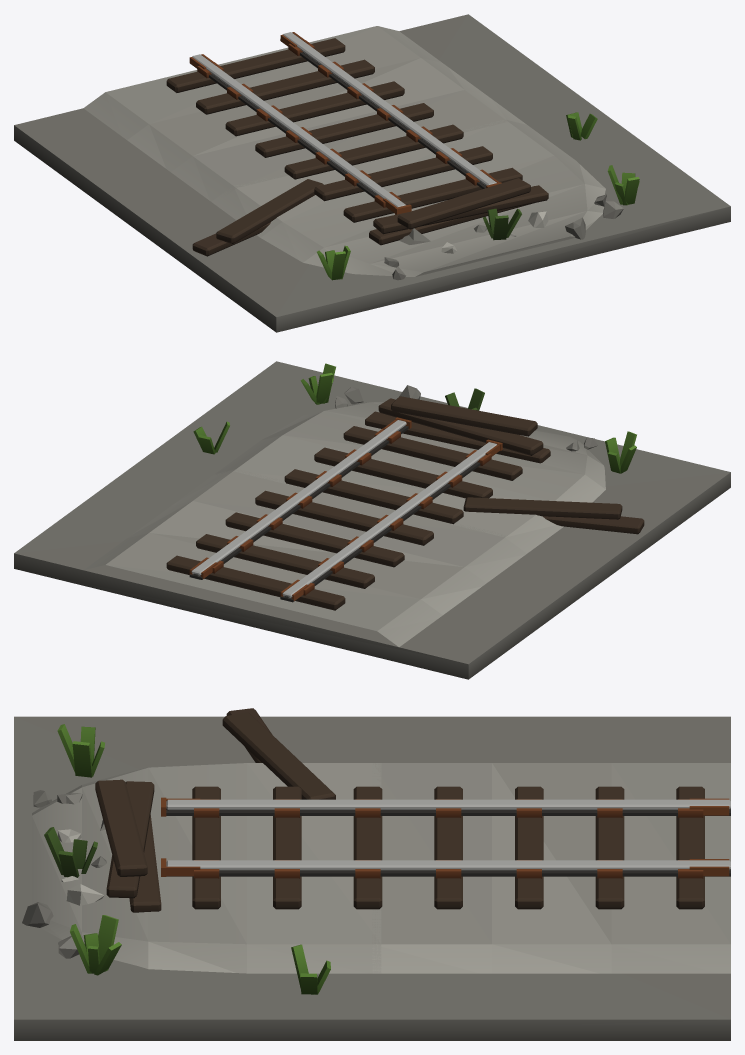
The model's file is track-end-stub-tile.glb.
The picture shows the model from 3 angles, top to bottom: view 1: azimuth 30°, elevation 25°; view 2: azimuth 150°, elevation 25°; view 3: azimuth 270°, elevation 25°; orthographic projection. The views are drawn at different scales.
Visible parts, largest first — view 1: track_end_stub_tile; view 2: track_end_stub_tile; view 3: track_end_stub_tile.
Boxes of the visible parts, <box> form: track_end_stub_tile: <box>14,14,730,332</box>; track_end_stub_tile: <box>14,361,730,679</box>; track_end_stub_tile: <box>14,708,730,1040</box>.
Bounding box in the file's own units: 4 × 0.4134 × 4.
